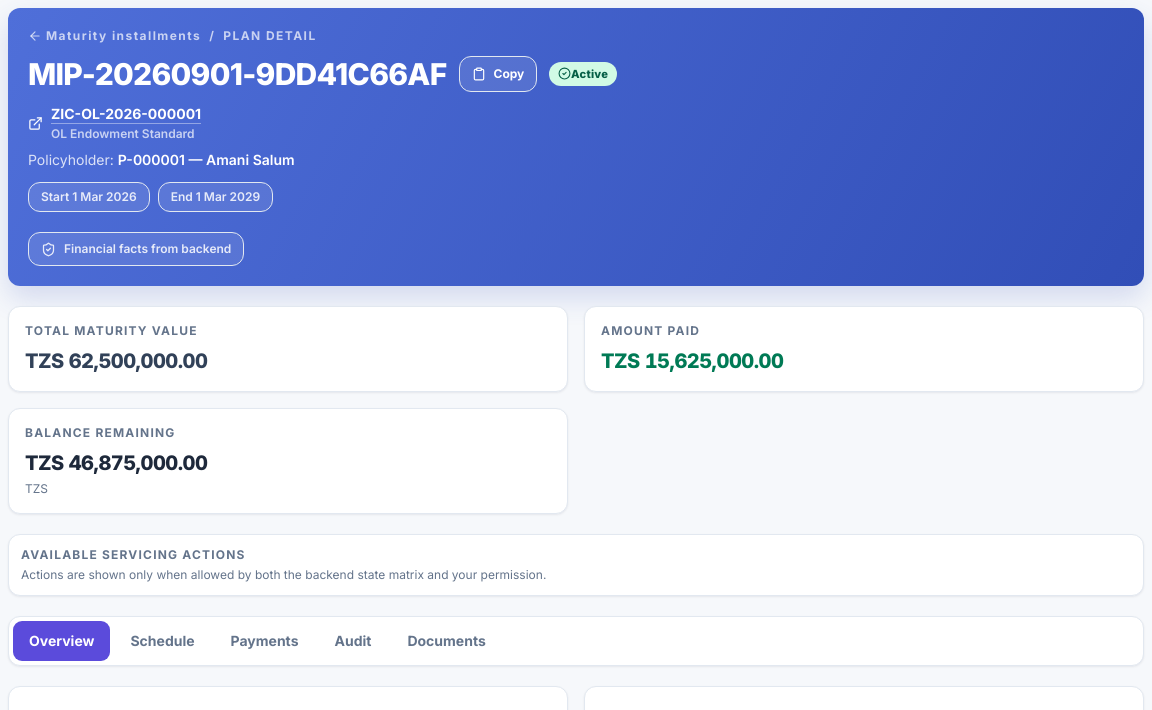
Scenario: OL Maturity Installments detail (Prompt 3 master-detail) › withholds action buttons and document prints the user lacks permission for
Check: the heading "MIP-20260901-9DD41C66AF" is shown, box [28,56,446,92]
Click the button "Documents": (447, 641) [391,621,502,661]
(page scrolled)
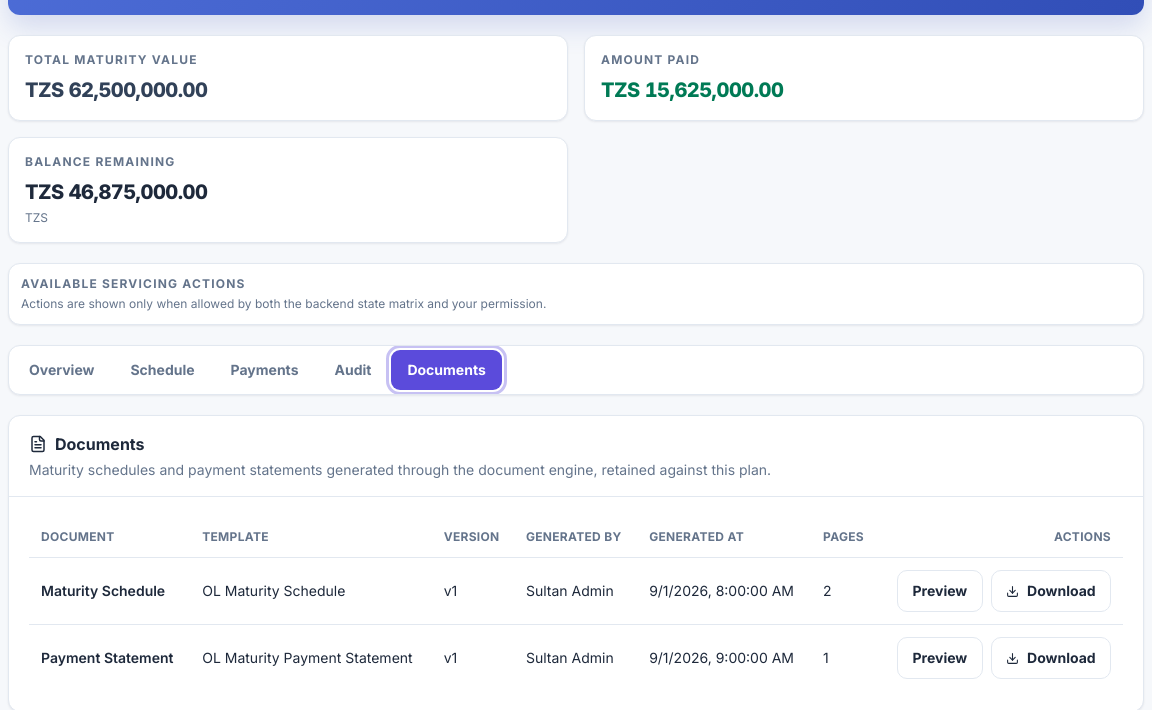
Check: the text "Maturity Schedule" is shown, box [29,558,190,624]
